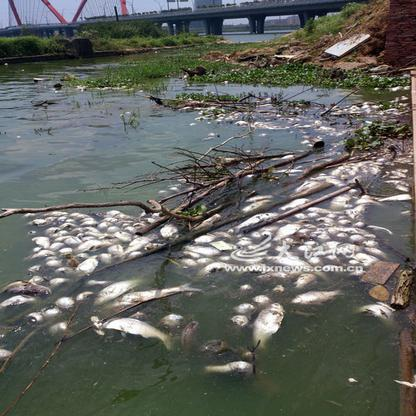deceased fish: (95, 317, 175, 350), (106, 284, 204, 308), (249, 299, 286, 354), (92, 274, 151, 308)
